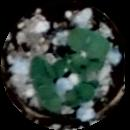Basil: (71, 29, 111, 56), (31, 57, 59, 88), (64, 82, 92, 107), (36, 82, 60, 110)
